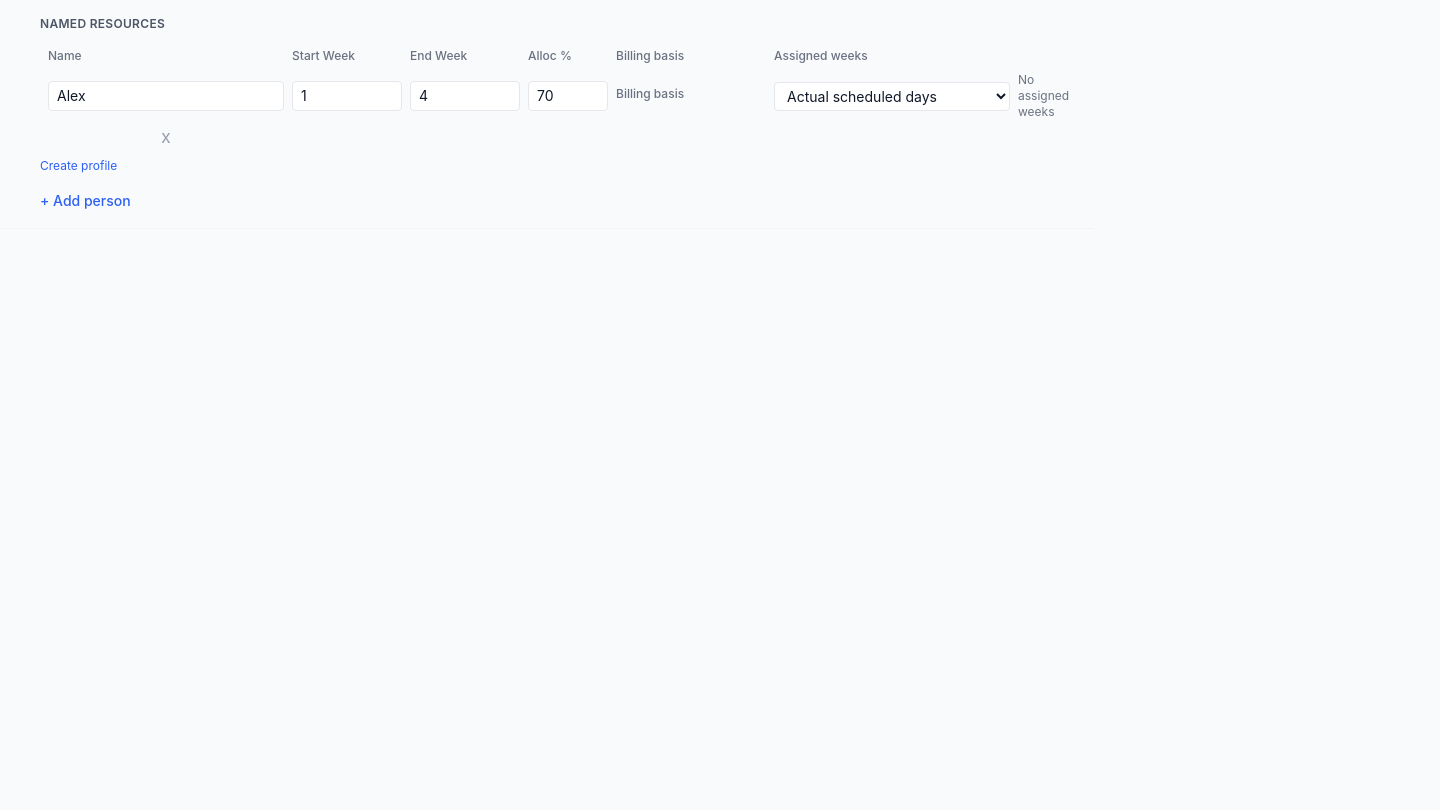
Test: NamedResourcesPanel first-class profile access › closes the modal after a successful save
This screenshot has width=1440, height=810.
Click the button "Create profile". click: (79, 166)
box: left=40, top=158, right=117, bottom=174
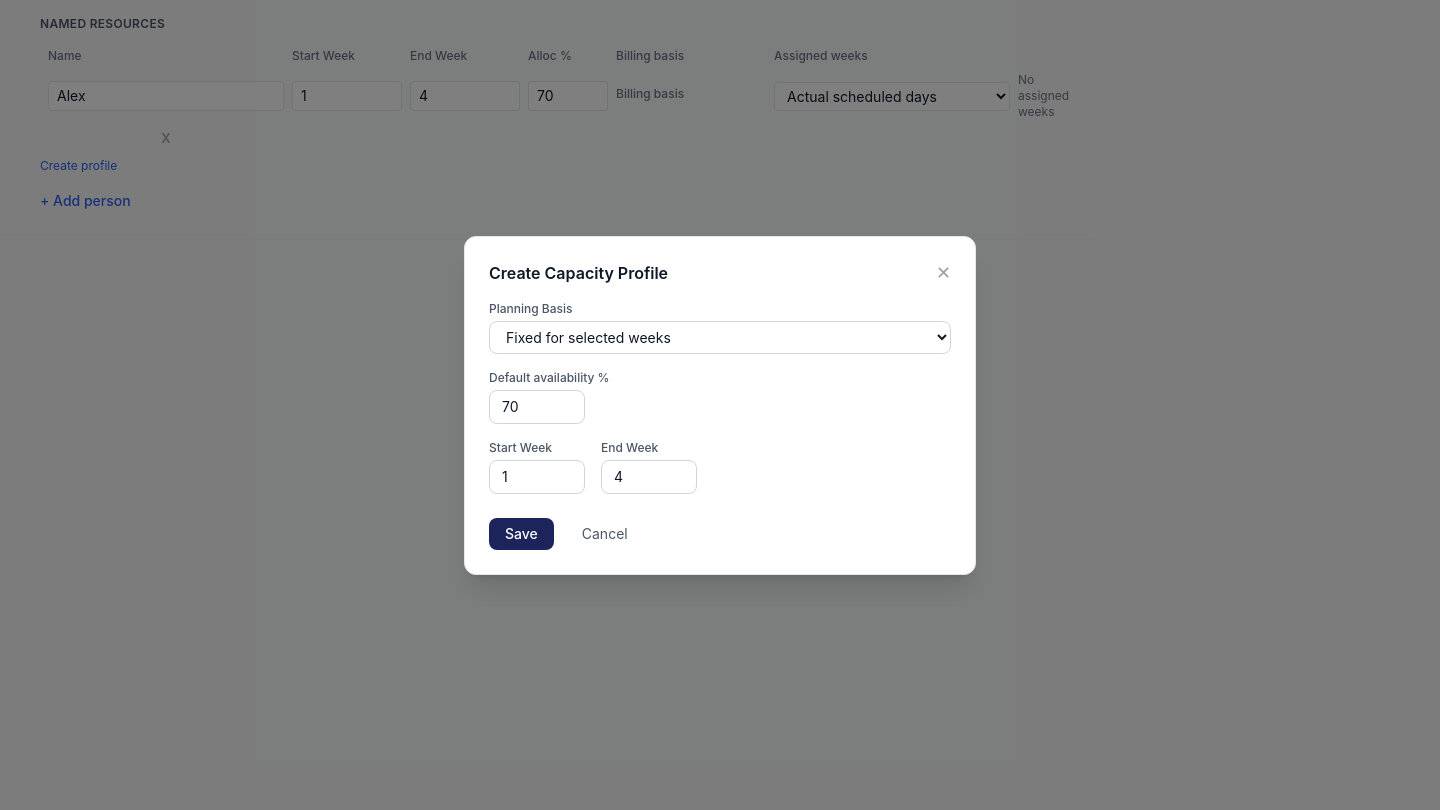
Click the button with test id "cp-save-btn". click: (521, 534)
box: left=489, top=518, right=554, bottom=550
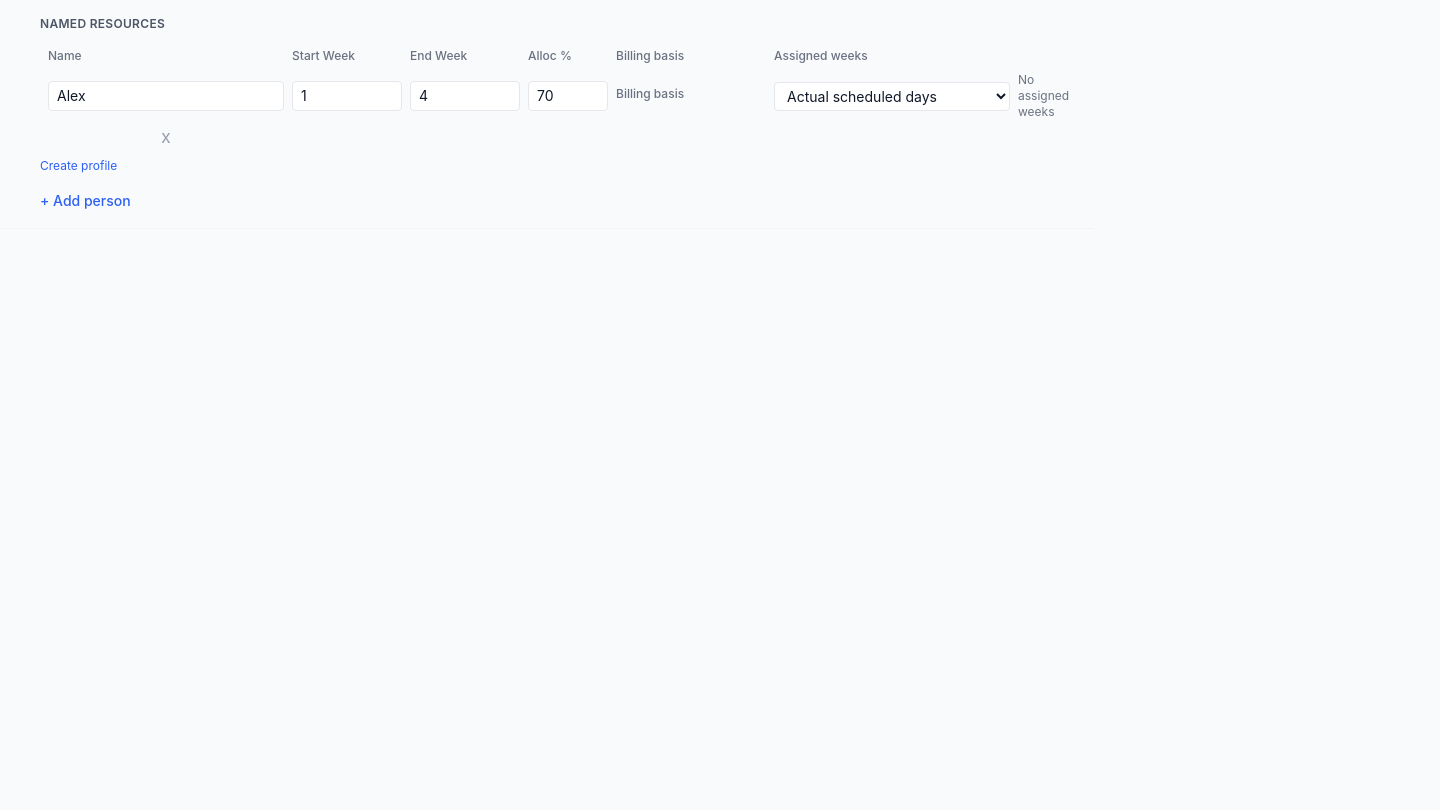
Now the heading "Create Capacity Profile" is gone
